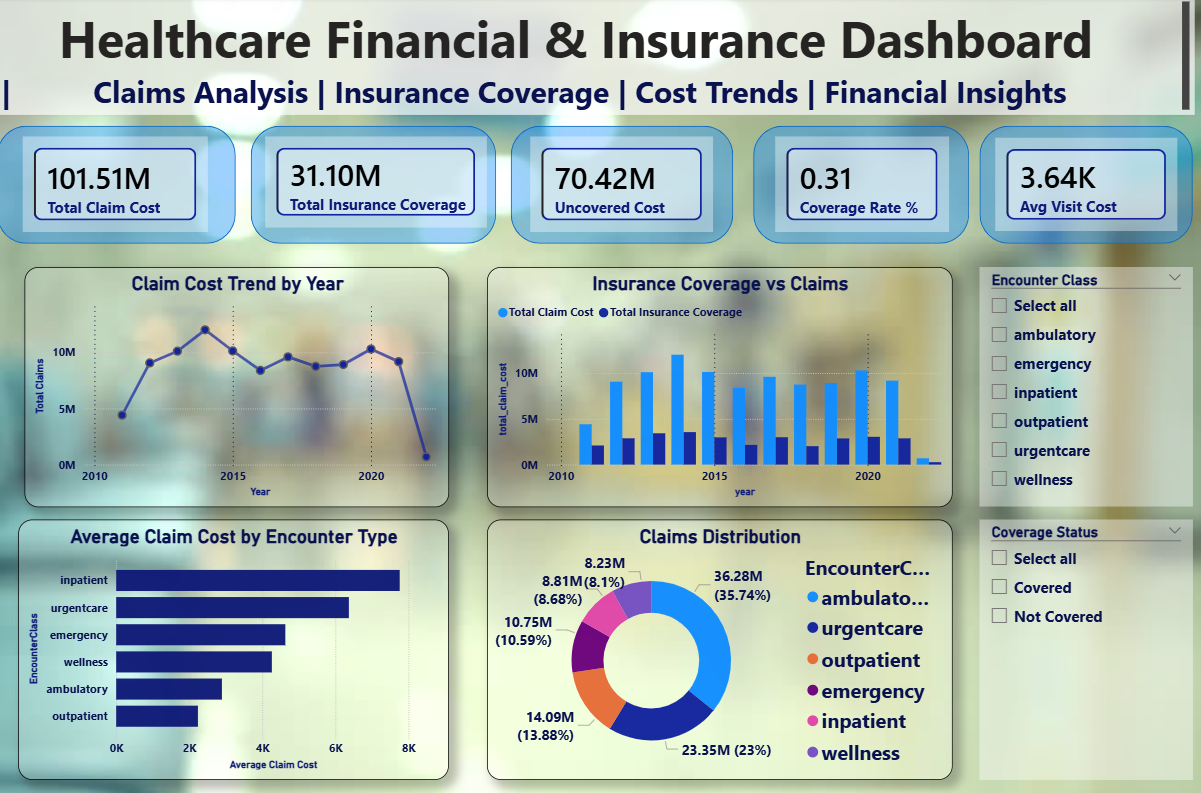

The page's visual inventory and layout, read from the dashboard file:
{"tool":"powerbi","page":{"name":"Healthcare","canvas":[1290,856],"ordinal":1},"visuals":[{"type":"textbox","box":[0,0,1283.8,126.5],"z":0},{"type":"shape","box":[0,138,255.8,126.5],"z":1000},{"type":"cardVisual","fields":{"Data":["encounters_clean.Total Claim Cost"]},"box":[23,145.2,208.4,112.1],"z":2000},{"type":"shape","box":[271.6,138,263,126.5],"z":3000},{"type":"shape","box":[1053.5,138,228.5,126.5],"z":4000},{"type":"shape","box":[550.5,138,238.6,126.5],"z":5000},{"type":"shape","box":[810.6,138,231.4,126.5],"z":6000},{"type":"cardVisual","fields":{"Data":["encounters_clean.Uncovered Cost"]},"box":[566.3,145.2,207,112.1],"z":7000},{"type":"cardVisual","fields":{"Data":["payers_clean.Total Insurance Coverage"]},"box":[283.1,145.2,247.2,107.8],"z":8000},{"type":"cardVisual","fields":{"Data":["encounters_clean.Avg Visit Cost"]},"box":[1065,146.6,205.5,110.7],"z":9000},{"type":"cardVisual","fields":{"Data":["encounters_clean.Coverage Rate %"]},"box":[829.3,145.2,196.9,112.1],"z":10000},{"type":"lineChart","title":"Claim Cost Trend by Year","fields":{"Category":["encounters_clean.year"],"Y":["encounters_clean.Total Claim Cost"]},"box":[28.9,289.2,455.5,257.4],"z":11000},{"type":"clusteredColumnChart","title":"Insurance Coverage vs Claims","fields":{"Category":["encounters_clean.year"],"Y":["encounters_clean.Total Claim Cost","payers_clean.Total Insurance Coverage"]},"box":[525,289.2,498.9,257.4],"z":12000},{"type":"clusteredBarChart","title":"Average Claim Cost by Encounter Type","fields":{"Category":["encounters_clean.encounterclass"],"Y":["encounters_clean.Average Claim Cost"]},"box":[23.1,559.7,461.3,279.1],"z":13000},{"type":"donutChart","title":"Claims Distribution","fields":{"Category":["encounters_clean.encounterclass"],"Y":["encounters_clean.Total Claim Cost"]},"box":[525,559.7,498.9,279.1],"z":14000},{"type":"slicer","fields":{"Values":["encounters_clean.encounterclass"]},"box":[1053,289,229,257],"z":15000},{"type":"slicer","fields":{"Values":["encounters_clean.Coverage Status"]},"box":[1053,560,229,279],"z":16000}]}

Visuals, with their boxes in screenshot pixels (x1, y1, x2, y2), scaled from the page's 1290x856 canvas onto the 1201x793 screenshot:
textbox: rect(0, 0, 1195, 117)
shape: rect(0, 128, 238, 245)
cardVisual - encounters_clean.Total Claim Cost: rect(21, 135, 215, 238)
shape: rect(253, 128, 498, 245)
shape: rect(981, 128, 1194, 245)
shape: rect(513, 128, 735, 245)
shape: rect(755, 128, 970, 245)
cardVisual - encounters_clean.Uncovered Cost: rect(527, 135, 720, 238)
cardVisual - payers_clean.Total Insurance Coverage: rect(264, 135, 494, 234)
cardVisual - encounters_clean.Avg Visit Cost: rect(992, 136, 1183, 238)
cardVisual - encounters_clean.Coverage Rate %: rect(772, 135, 955, 238)
"Claim Cost Trend by Year" lineChart: rect(27, 268, 451, 506)
"Insurance Coverage vs Claims" clusteredColumnChart: rect(489, 268, 953, 506)
"Average Claim Cost by Encounter Type" clusteredBarChart: rect(22, 519, 451, 777)
"Claims Distribution" donutChart: rect(489, 519, 953, 777)
slicer - encounters_clean.encounterclass: rect(980, 268, 1194, 506)
slicer - encounters_clean.Coverage Status: rect(980, 519, 1194, 777)
